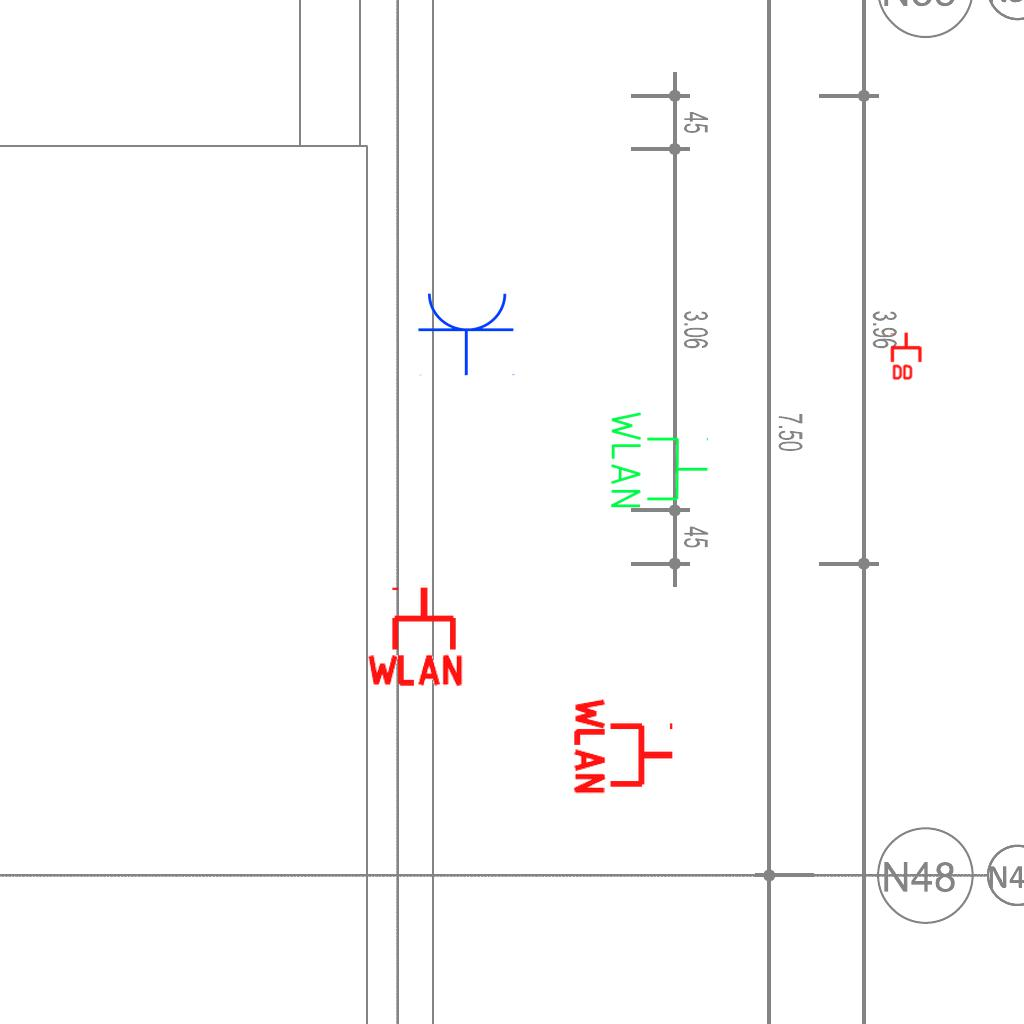Datenanschluss_zweifach: (890, 331, 924, 382)
Schukosteckdose_einfach: (417, 289, 517, 376)
WLAN: (607, 407, 711, 512), (363, 583, 467, 688), (572, 694, 677, 798)
